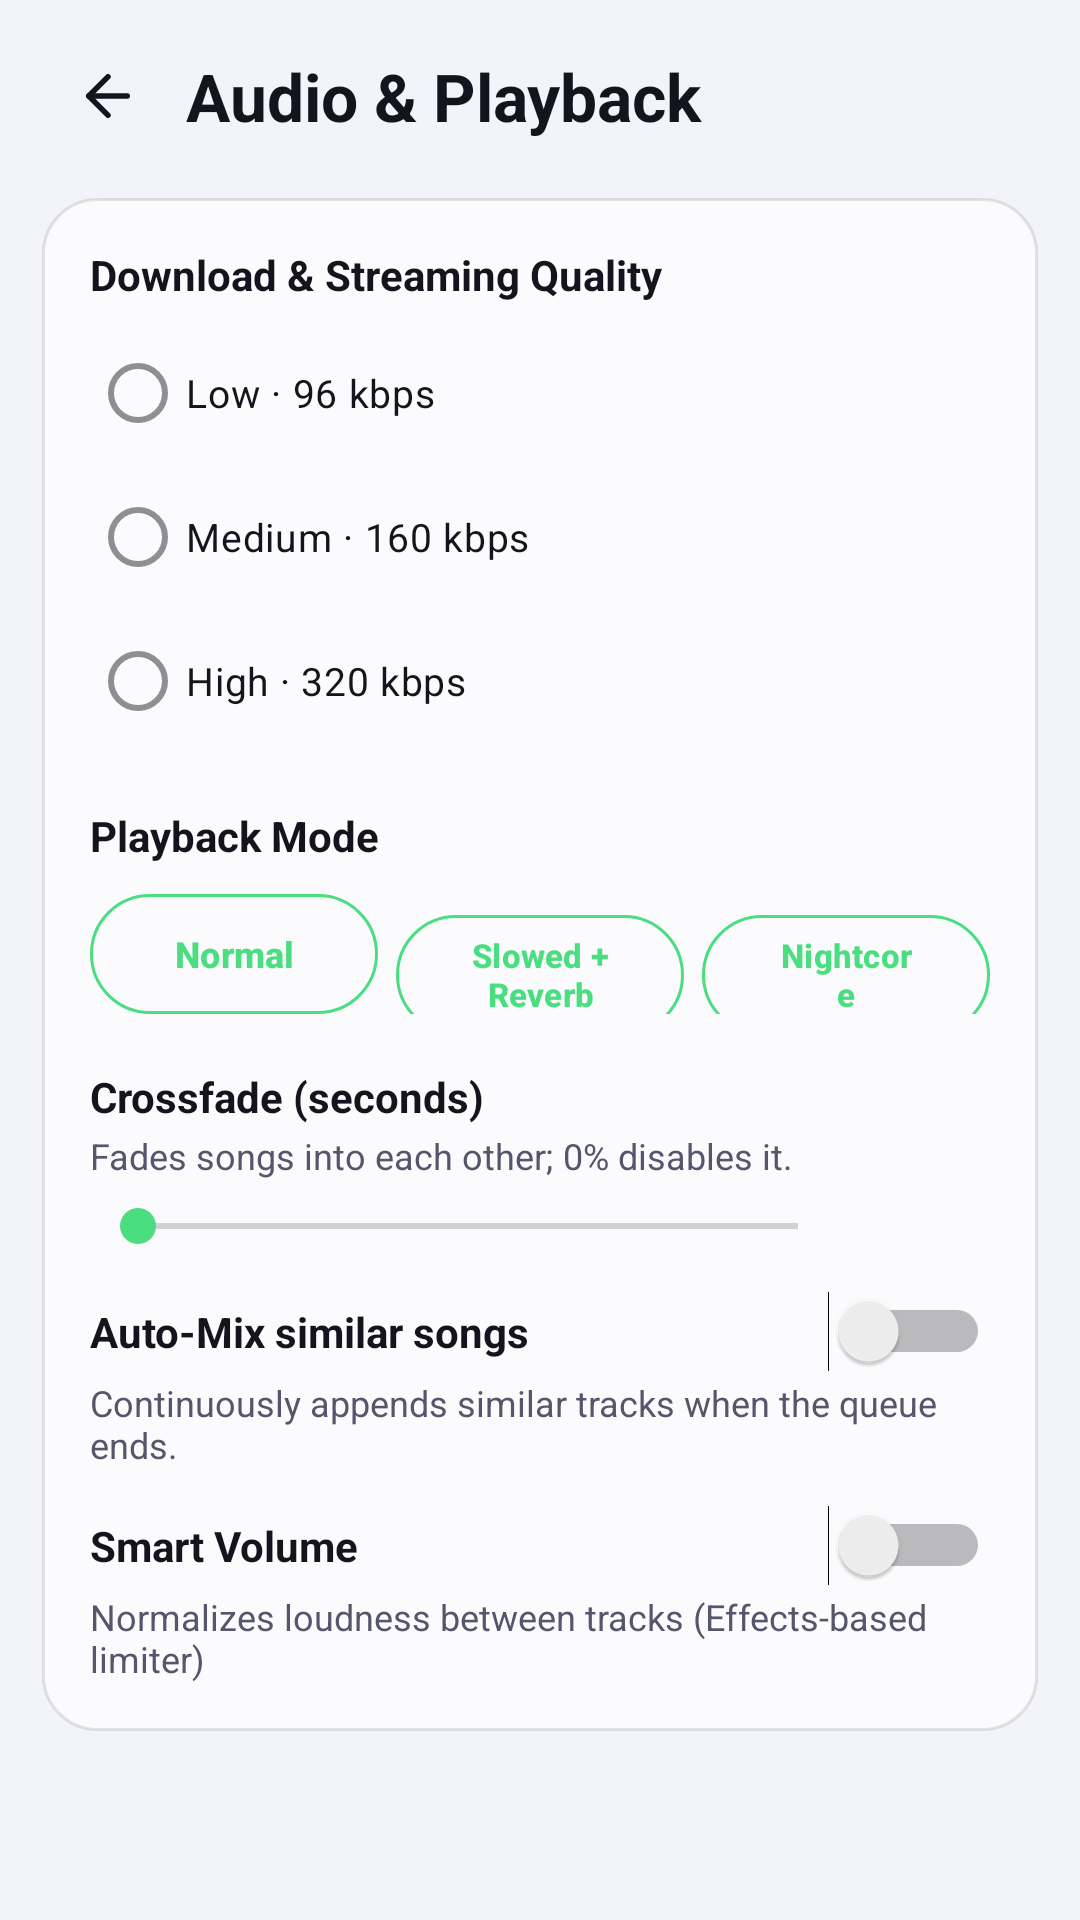

Named icons in this screenshot (1080×1920) and their centers, point (x, y):
arrow back: point (108, 96)
